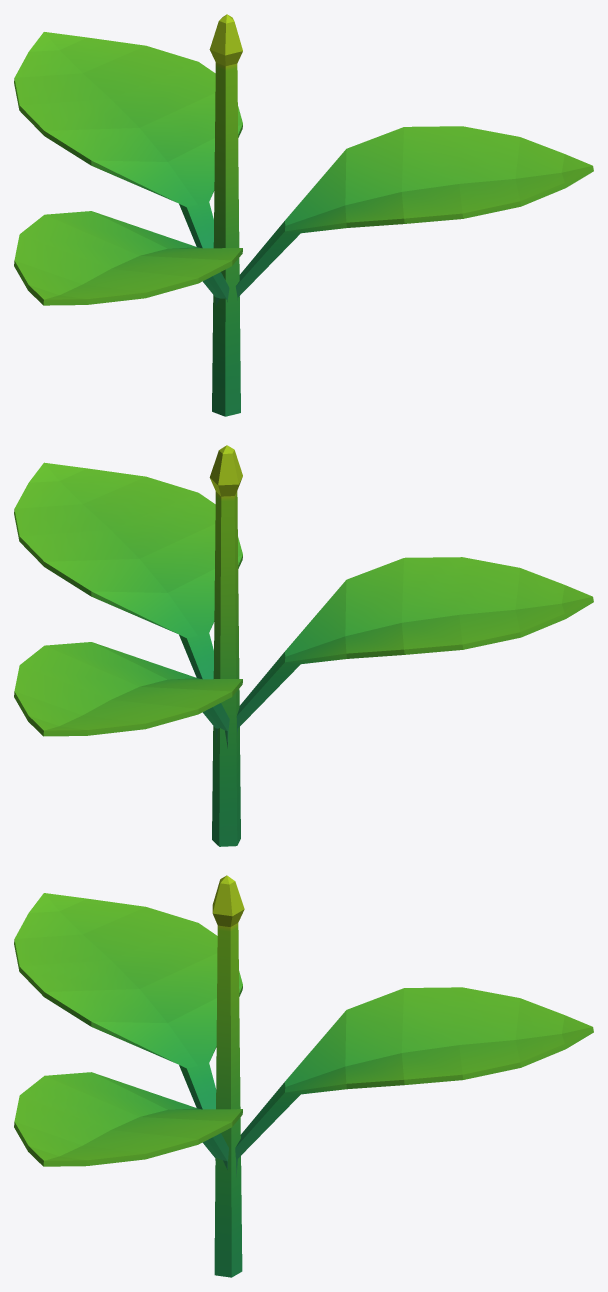
File: potato1.glb
The picture shows the model from 3 angles, top to bottom: view 1: azimuth 30°, elevation 25°; view 2: azimuth 150°, elevation 25°; view 3: azimuth 270°, elevation 25°; orthographic projection.
Visible parts, largest first — view 1: Potato1; view 2: Potato1; view 3: Potato1.
Part boxes in pixels (x1,y1,x2,y2): Potato1: (14,14,593,416); Potato1: (14,445,593,846); Potato1: (14,875,593,1277).
Bounding box in the file's own units: 0.3214 × 0.221 × 0.2933.
Materials: 1 (1 with a texture image).
